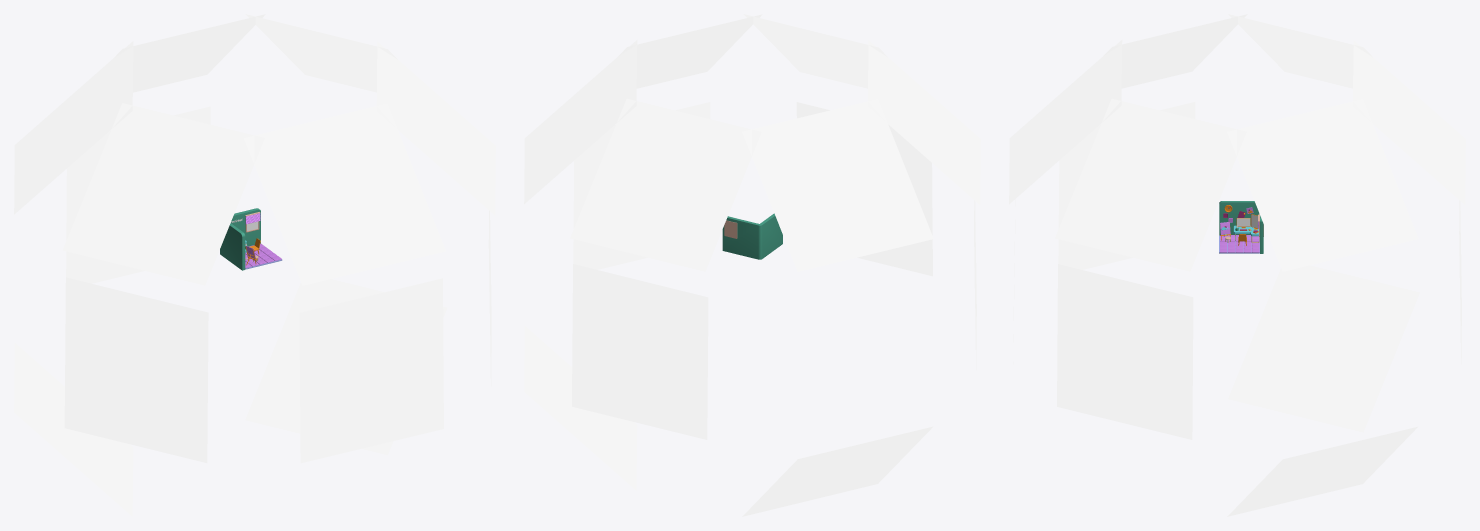
The model's file is room-transformed.glb.
3 views of the same model, side by side, from view 1: azimuth 30°, elevation 25°; view 2: azimuth 150°, elevation 25°; view 3: azimuth 270°, elevation 25° (orthographic). The views are drawn at different scales.
Visible parts, largest first — view 1: lighting, Wall; view 2: lighting, Wall; view 3: lighting, Wall, Floor - 2.
Part boxes in pixels (box(x1,y1,x2,y2)): lighting: box(14, 14, 495, 516); Wall: box(220, 208, 260, 270); lighting: box(524, 14, 980, 516); Wall: box(722, 213, 782, 259); lighting: box(1009, 14, 1465, 516); Wall: box(1219, 201, 1263, 253); Floor - 2: box(1220, 235, 1259, 252).
Bounding box in the file's own units: 31.39 × 28.17 × 30.27.
